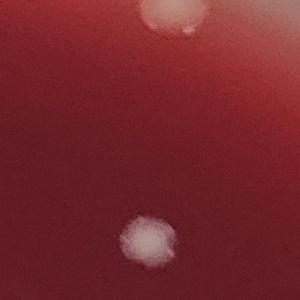colony: (116, 216, 181, 276), (133, 0, 214, 46)
